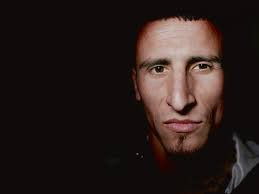middle_eastern_male: (135, 13, 234, 160)
